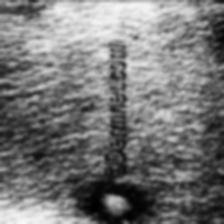Unclassified: (72, 181, 150, 224), (204, 0, 224, 58), (0, 0, 57, 18)
